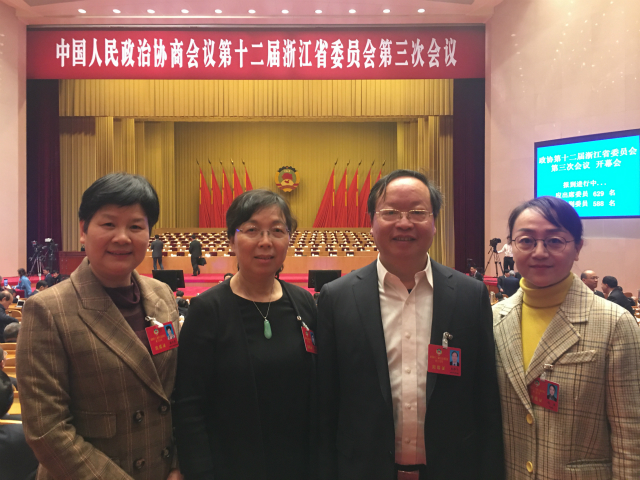noWear: (83, 206, 155, 281), (511, 220, 578, 288), (376, 192, 437, 266), (234, 216, 295, 280), (582, 273, 598, 288)
